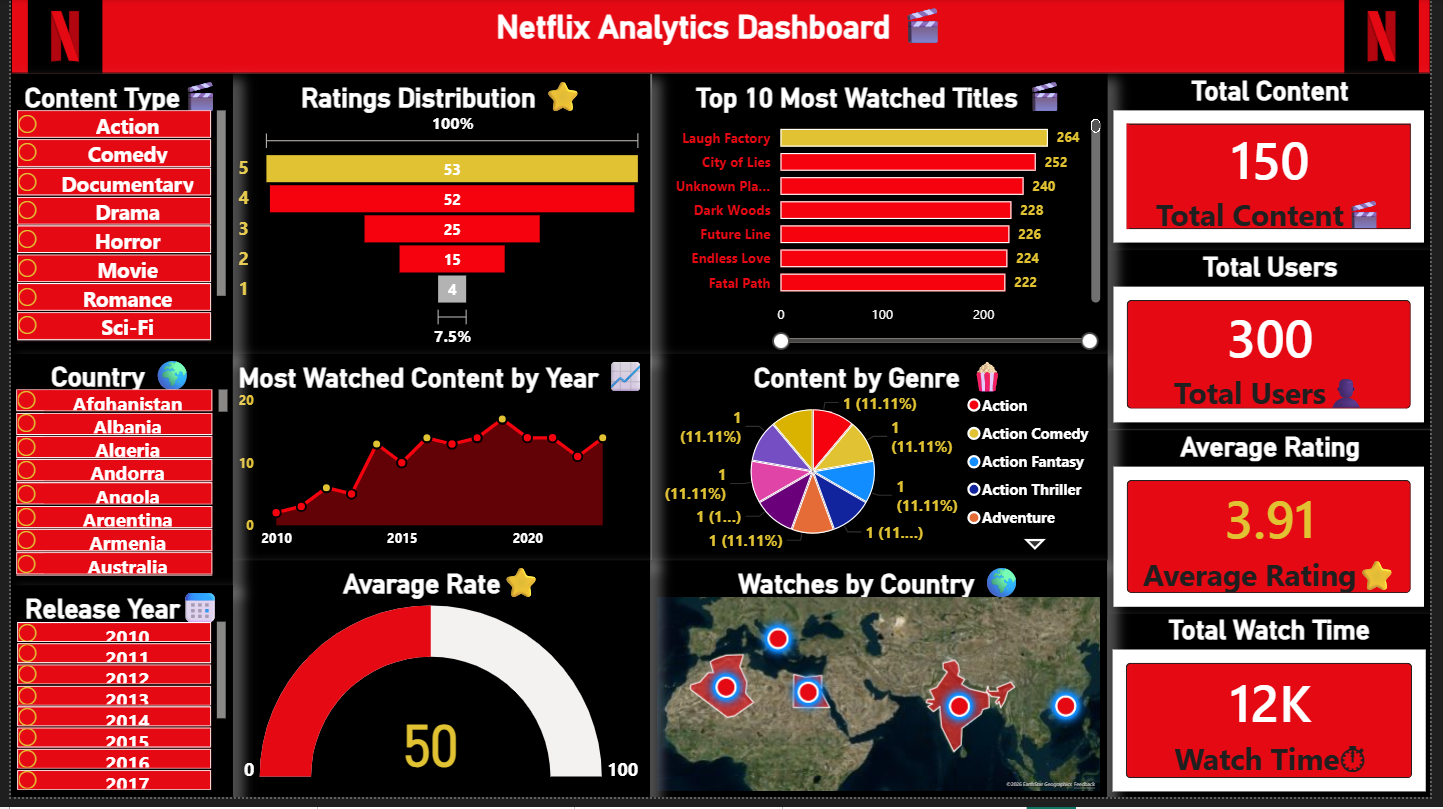

What the dashboard file says about the page in this screenshot:
{"tool":"powerbi","page":{"name":"Netflix Analytics Dashboard Overview","canvas":[1280,720],"ordinal":0},"visuals":[{"type":"textbox","title":"Netflix Analytics Dashboard 🎬","box":[0,0,1280.3,67.2],"z":0},{"type":"image","box":[0,0,97.4,67.2],"z":1000},{"type":"image","box":[1189.7,0,90.6,67.2],"z":2000},{"type":"cardVisual","title":"Total Content","fields":{"Data":["CountNonNull(Content.Content_id)"]},"box":[988,67.2,292.3,159.2],"z":3000},{"type":"cardVisual","title":"Total Users","fields":{"Data":["CountNonNull(Users.User_id)"]},"box":[988,226.4,292.3,161.9],"z":4000},{"type":"cardVisual","title":"Average Rating","fields":{"Data":["Avg(Rating.Rate_score)"]},"box":[988,388.3,292.3,166],"z":5000},{"type":"cardVisual","title":"Total Watch Time","fields":{"Data":["Sum(Watch_history.Watch_duration)"]},"box":[988,554.4,292.3,166],"z":6000},{"type":"barChart","title":"Top 10 Most Watched Titles 🎬","fields":{"Category":["Content.Title"],"Y":["Sum(Watch_history.Watch_id)"]},"box":[577.7,67.2,410.3,252.5],"z":7000},{"type":"pieChart","title":"Content by Genre 🍿","fields":{"Y":["CountNonNull(Content.Content_id)"],"Category":["Genre.Genre_name"]},"box":[577.7,319.7,410.3,185.2],"z":8000},{"type":"azureMap","title":"Watches by Country 🌍","fields":{"Category":["Country.Country_name"],"Y":["CountNonNull(Watch_history.Watch_id)"]},"box":[577.1,505.7,411.4,214.3],"z":9000},{"type":"funnel","title":"Ratings Distribution ⭐","fields":{"Category":["Rating.Rate_score"],"Y":["CountNonNull(Rating.Rating_id)"]},"box":[200,67.1,377.1,252.9],"z":10000},{"type":"lineChart","title":"Most Watched Content by Year 📈","fields":{"Category":["Content.Release_year"],"Y":["CountNonNull(Watch_history.Watch_id)"]},"box":[200,320,377.1,185.7],"z":11000},{"type":"gauge","title":"Avarage Rate⭐","fields":{"Y":["Sum(Top_Rate_Content.Avarage_Rate)"]},"box":[200,505.7,377.1,214.3],"z":12000},{"type":"listSlicer","fields":{"Values":["Content.Type"]},"box":[0,67.1,200,252.9],"z":13000},{"type":"listSlicer","title":"Country 🌍","fields":{"Values":["Country.Country_name"]},"box":[0,320,200,208.6],"z":14000},{"type":"listSlicer","fields":{"Values":["Content.Release_year"]},"box":[0,528.6,200,191.4],"z":15000}]}

Visuals, with their boxes in screenshot pixels (x1, y1, x2, y2), scaled from the page's 1280x720 canvas onto the 1443x809 screenshot:
"Netflix Analytics Dashboard 🎬" textbox: bbox=[0, 0, 1442, 76]
image: bbox=[0, 0, 110, 76]
image: bbox=[1341, 0, 1442, 76]
"Total Content" cardVisual: bbox=[1114, 76, 1442, 254]
"Total Users" cardVisual: bbox=[1114, 254, 1442, 436]
"Average Rating" cardVisual: bbox=[1114, 436, 1442, 623]
"Total Watch Time" cardVisual: bbox=[1114, 623, 1442, 808]
"Top 10 Most Watched Titles 🎬" barChart: bbox=[651, 76, 1114, 359]
"Content by Genre 🍿" pieChart: bbox=[651, 359, 1114, 567]
"Watches by Country 🌍" azureMap: bbox=[651, 568, 1114, 808]
"Ratings Distribution ⭐" funnel: bbox=[225, 75, 651, 360]
"Most Watched Content by Year 📈" lineChart: bbox=[225, 360, 651, 568]
"Avarage Rate⭐" gauge: bbox=[225, 568, 651, 808]
listSlicer - Content.Type: bbox=[0, 75, 225, 360]
"Country 🌍" listSlicer: bbox=[0, 360, 225, 594]
listSlicer - Content.Release_year: bbox=[0, 594, 225, 808]
